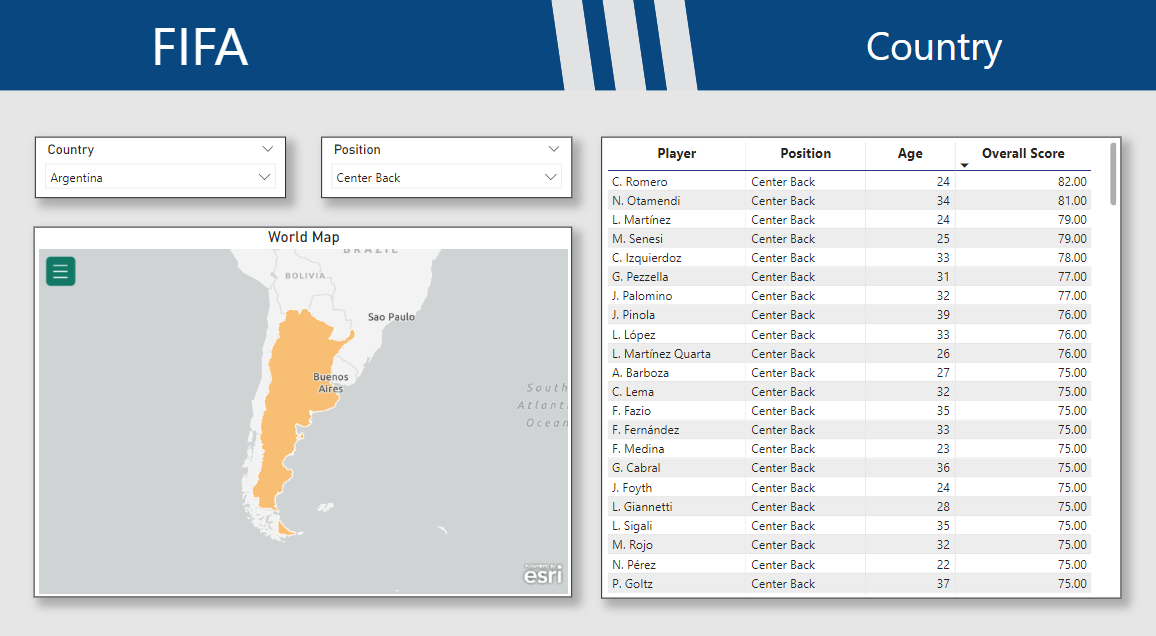

The dashboard page shown, as its layout file describes it:
{"tool":"powerbi","page":{"name":"Country","canvas":[1280,720],"ordinal":1},"visuals":[{"type":"shape","box":[0,12.1,1279.6,100.1],"z":0},{"type":"slicer","fields":{"Values":["tbl_country.Country Name"]},"box":[43.4,162.8,275,67.5],"z":1000},{"type":"tableEx","fields":{"Values":["tbl_player.Short Name","tbl_position.Decription","Sum(tbl_player.Age)","Avg(tbl_stats.Overall)"]},"box":[665.4,162.8,570.5,506.5],"z":2000},{"type":"esriVisual","title":"World Map","fields":{"Location":["tbl_country.Country Name"]},"box":[42.6,262.3,590.6,406.5],"z":3000},{"type":"textbox","box":[166.2,17.1,460.8,89.2],"z":6000},{"type":"textbox","box":[721.2,26.9,388.7,72.1],"z":7000},{"type":"shape","box":[625,3.8,35,120],"z":8000},{"type":"shape","box":[609,4.3,35,120],"z":9000},{"type":"shape","box":[681.2,3.8,35,120],"z":10000},{"type":"shape","box":[664.7,4.3,35,120],"z":11000},{"type":"shape","box":[737.5,3.8,35,120],"z":12000},{"type":"shape","box":[721,4.3,35,120],"z":13000},{"type":"slicer","fields":{"Values":["tbl_position.Decription"]},"box":[358.2,162.8,275,67.5],"z":14000}]}

Visuals, with their boxes in screenshot pixels (x1, y1, x2, y2), scaled from the page's 1280x720 canvas onto the 1156x636 screenshot:
shape: bbox=[0, 11, 1155, 99]
slicer - tbl_country.Country Name: bbox=[39, 144, 288, 203]
tableEx - tbl_player.Short Name x tbl_position.Decription: bbox=[601, 144, 1116, 591]
"World Map" esriVisual: bbox=[38, 232, 572, 591]
textbox: bbox=[150, 15, 566, 94]
textbox: bbox=[651, 24, 1002, 87]
shape: bbox=[564, 3, 596, 109]
shape: bbox=[550, 4, 582, 110]
shape: bbox=[615, 3, 647, 109]
shape: bbox=[600, 4, 632, 110]
shape: bbox=[666, 3, 698, 109]
shape: bbox=[651, 4, 683, 110]
slicer - tbl_position.Decription: bbox=[323, 144, 572, 203]
